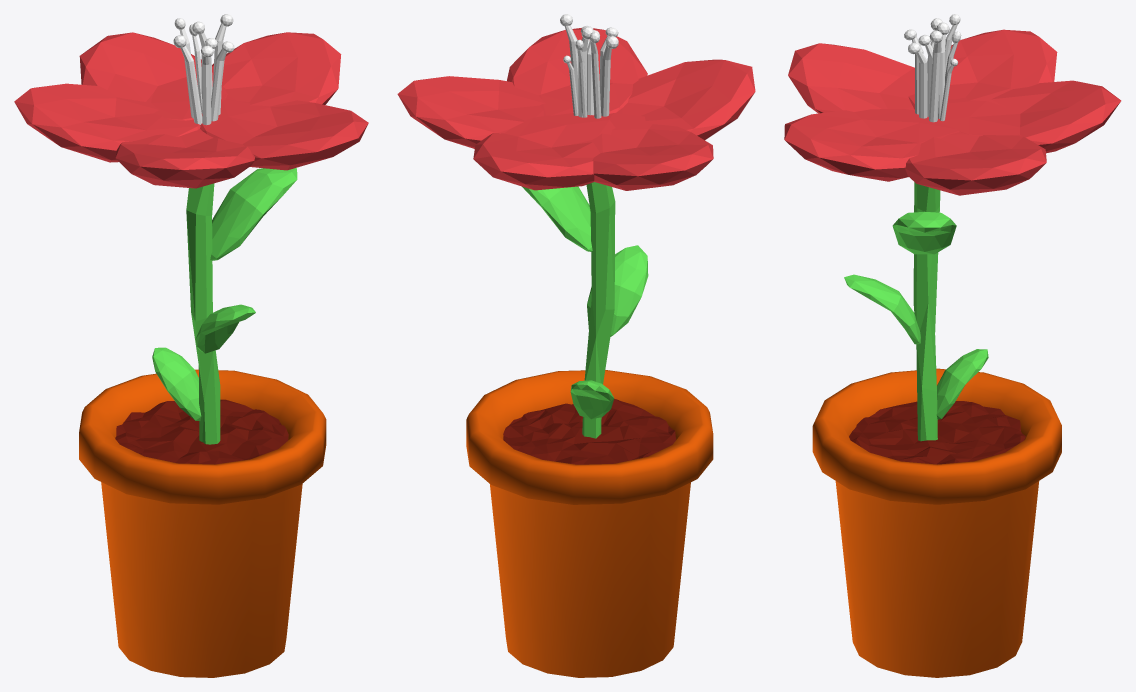
Rendered from Flower.glb.
3 views of the same model, side by side, from view 1: azimuth 30°, elevation 25°; view 2: azimuth 150°, elevation 25°; view 3: azimuth 270°, elevation 25° (orthographic).
Parts seen in each view (by area): view 1: Cylinder.009_0, Icosphere.002, Icosphere.023, Circle.001, Cylinder_0, Cylinder.005_0, Cylinder.001_0, Cylinder.002_0; view 2: Cylinder.009_0, Icosphere.002, Circle.001, Icosphere.023, Cylinder_0, Cylinder.005_0, Cylinder.004_0; view 3: Cylinder.009_0, Icosphere.002, Circle.001, Icosphere.023, Cylinder_0, Cylinder.007_0, Cylinder.001_0.
Part boxes in pixels (x1,y1,x2,y2): Cylinder.009_0: (79,369,326,677); Icosphere.002: (14,32,368,188); Icosphere.023: (152,168,297,420); Circle.001: (115,399,288,464); Cylinder_0: (186,183,220,444); Cylinder.005_0: (181,45,202,124); Cylinder.001_0: (211,48,226,121); Cylinder.002_0: (202,55,211,125); Cylinder.009_0: (466,370,713,677); Icosphere.002: (397,28,755,190); Circle.001: (503,399,675,464); Icosphere.023: (522,186,648,419); Cylinder_0: (582,182,615,438); Cylinder.005_0: (601,45,611,116); Cylinder.004_0: (590,41,601,118); Cylinder.009_0: (812,368,1061,677); Icosphere.002: (784,29,1121,195); Circle.001: (849,401,1025,464); Icosphere.023: (844,211,988,419); Cylinder_0: (913,182,940,441); Cylinder.007_0: (929,41,941,122); Cylinder.001_0: (916,50,927,118).
Bounding box in the file's own units: 1.08 × 2.13 × 1.05.
